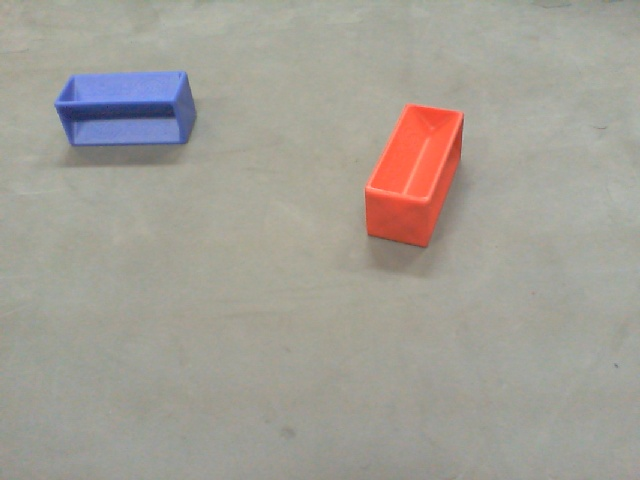BlueSample: (54, 65, 199, 148)
RedSample: (361, 100, 466, 250)
